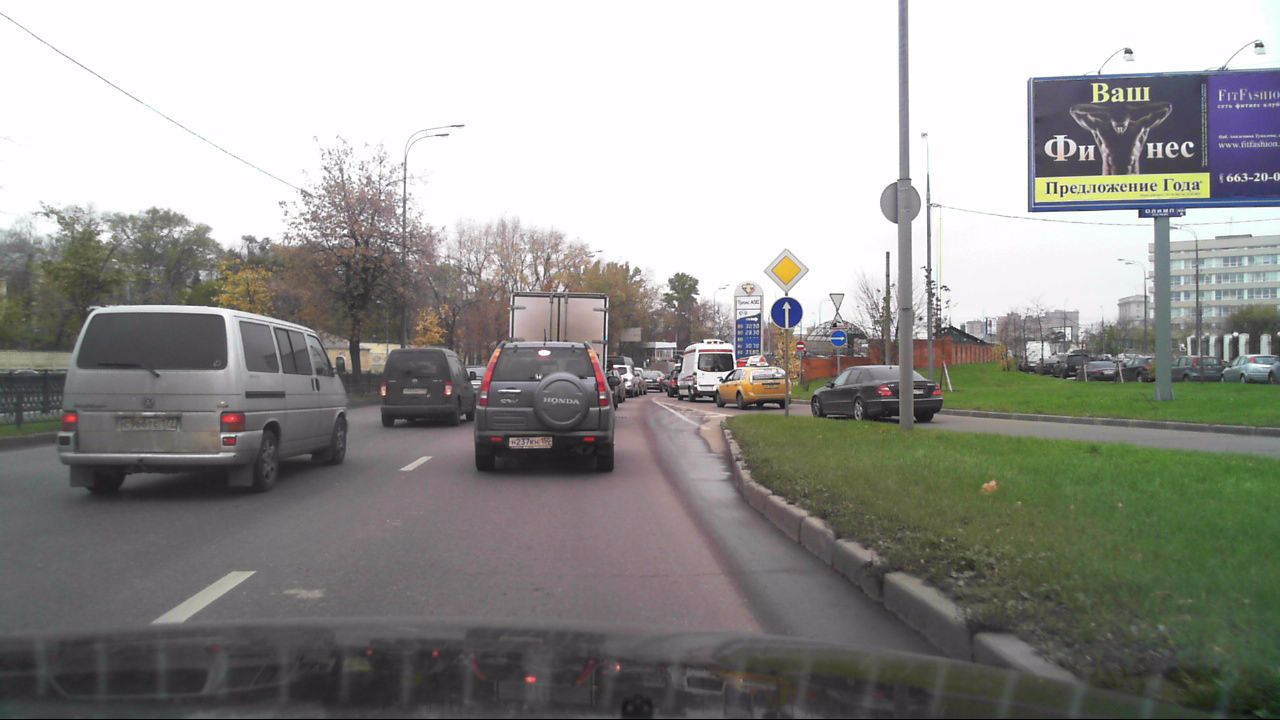Turn Right: (830, 330, 846, 346)
